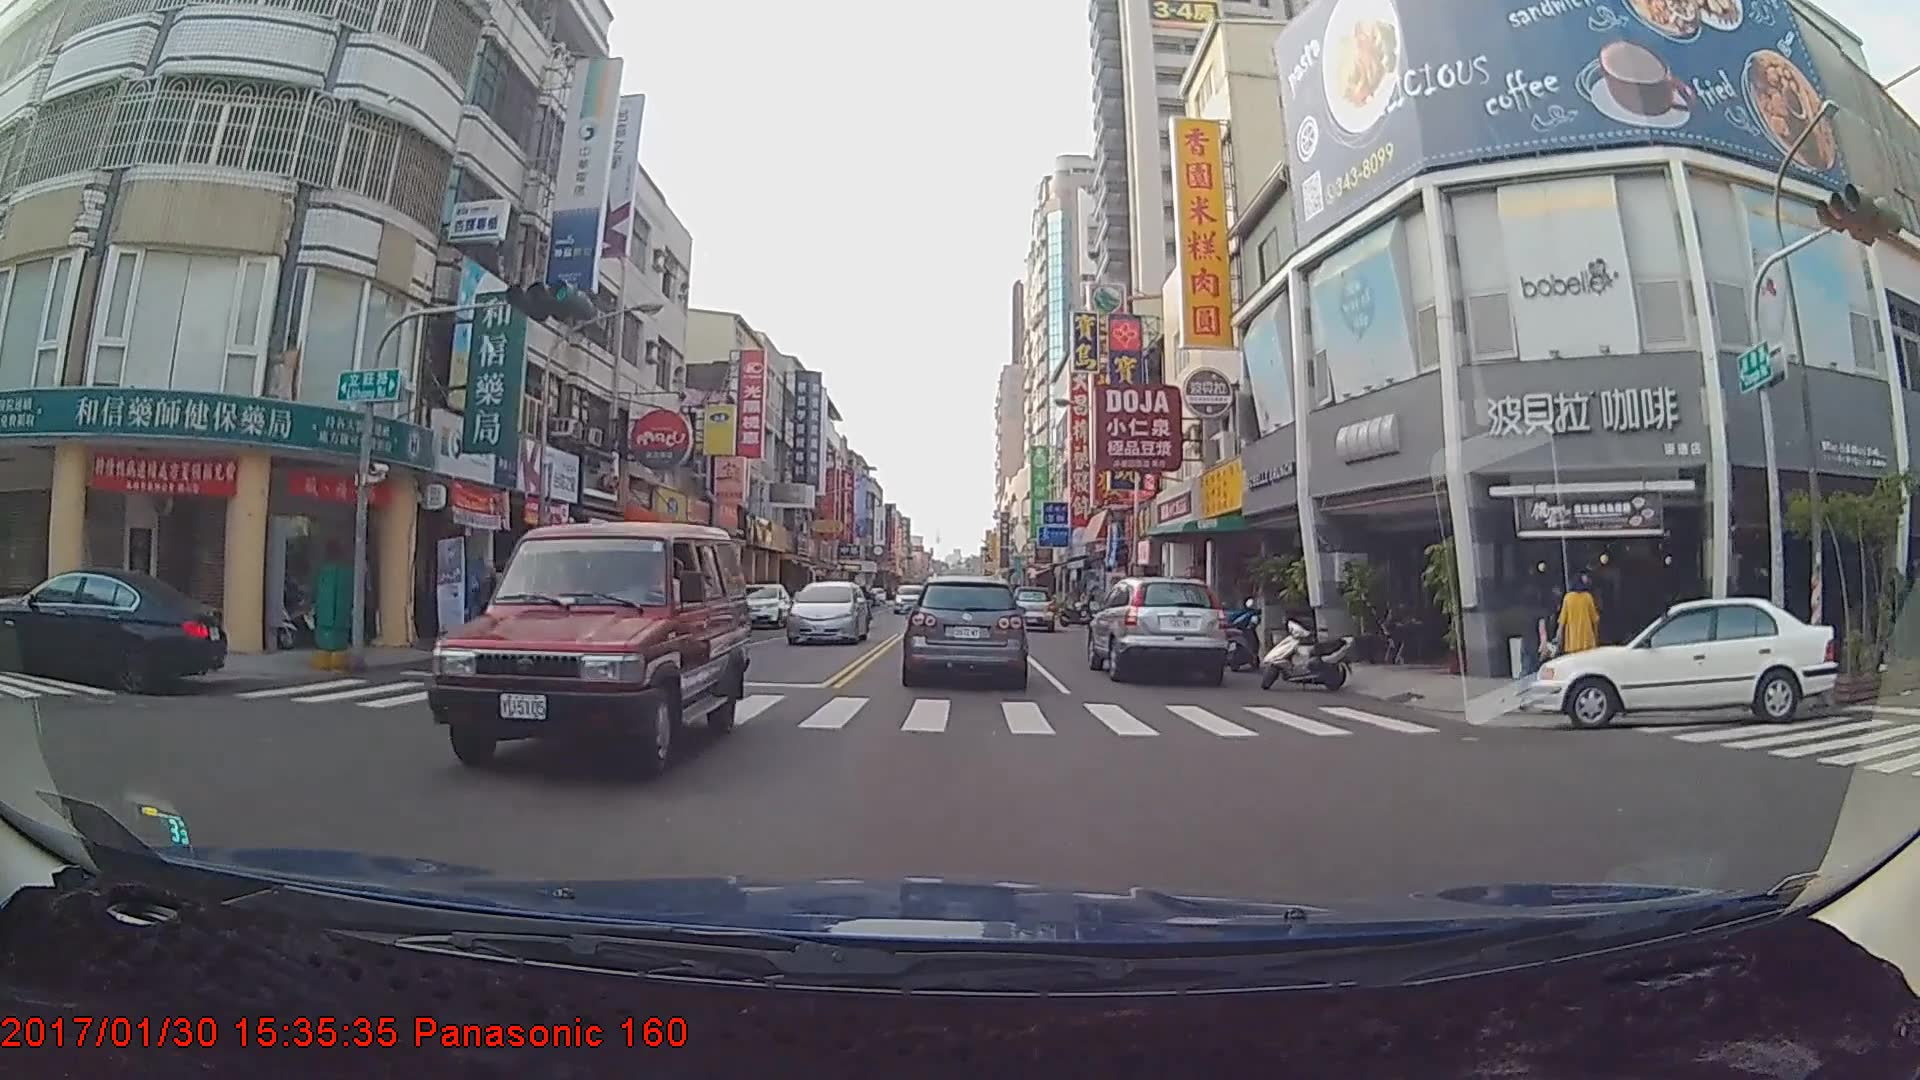pedestrian: (1557, 569, 1601, 680), (1514, 586, 1554, 702)
vehicle: (427, 519, 753, 777), (1526, 594, 1839, 734), (0, 564, 225, 693), (1087, 575, 1230, 685), (901, 575, 1026, 684), (785, 579, 870, 646), (732, 581, 791, 629), (1007, 587, 1055, 632), (892, 583, 927, 614)
